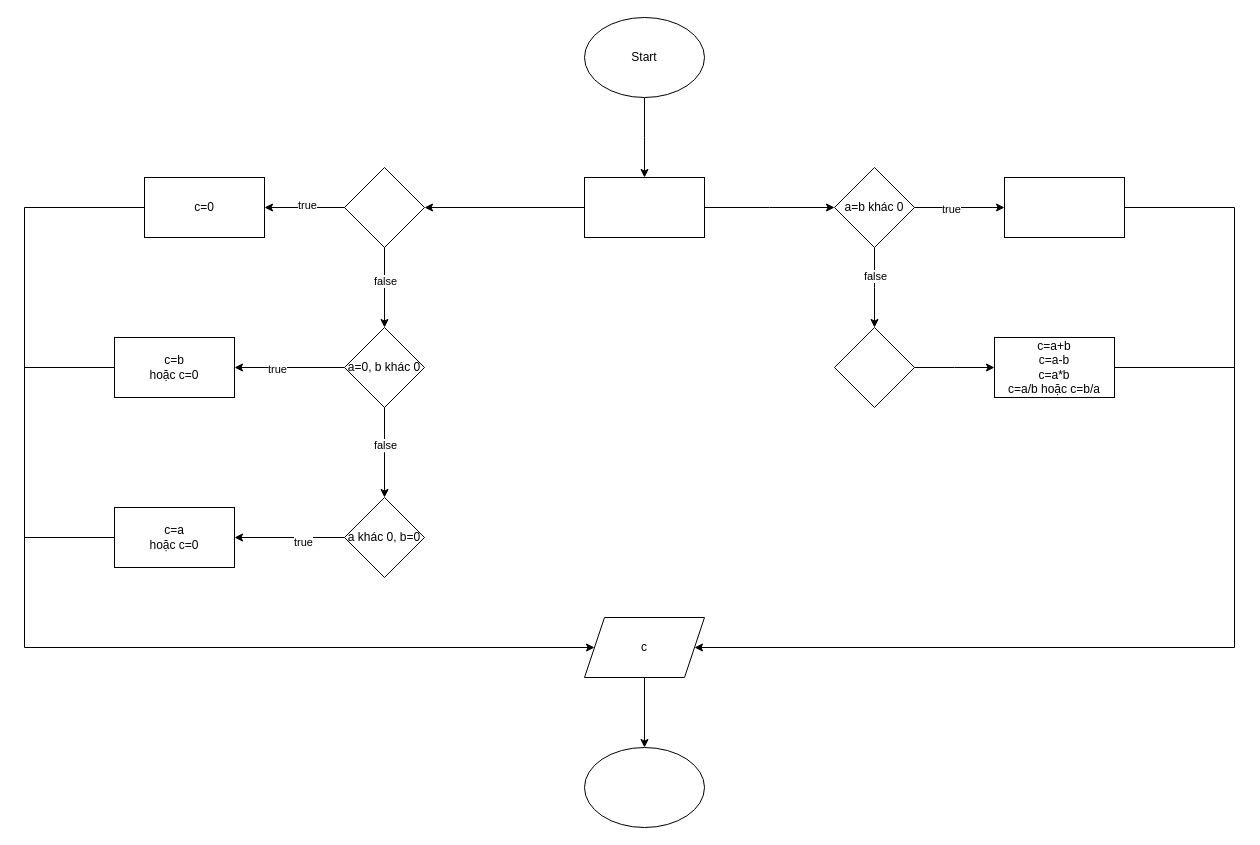
This 1260x845 diagram has some shape labels left out. Each missing label, with the centre of its shape:
a khác b khác 0: the point at 874,367
a,b: the point at 644,207
a=b=0: the point at 384,207
c=2*a c=1 c=a*a: the point at 1064,207
End: the point at 644,787
